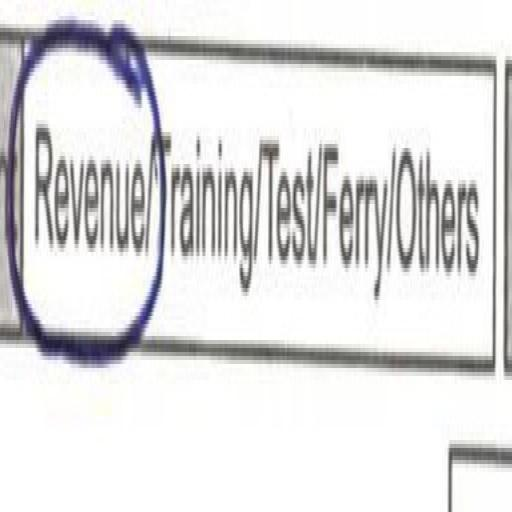check: (23, 0, 160, 463)
